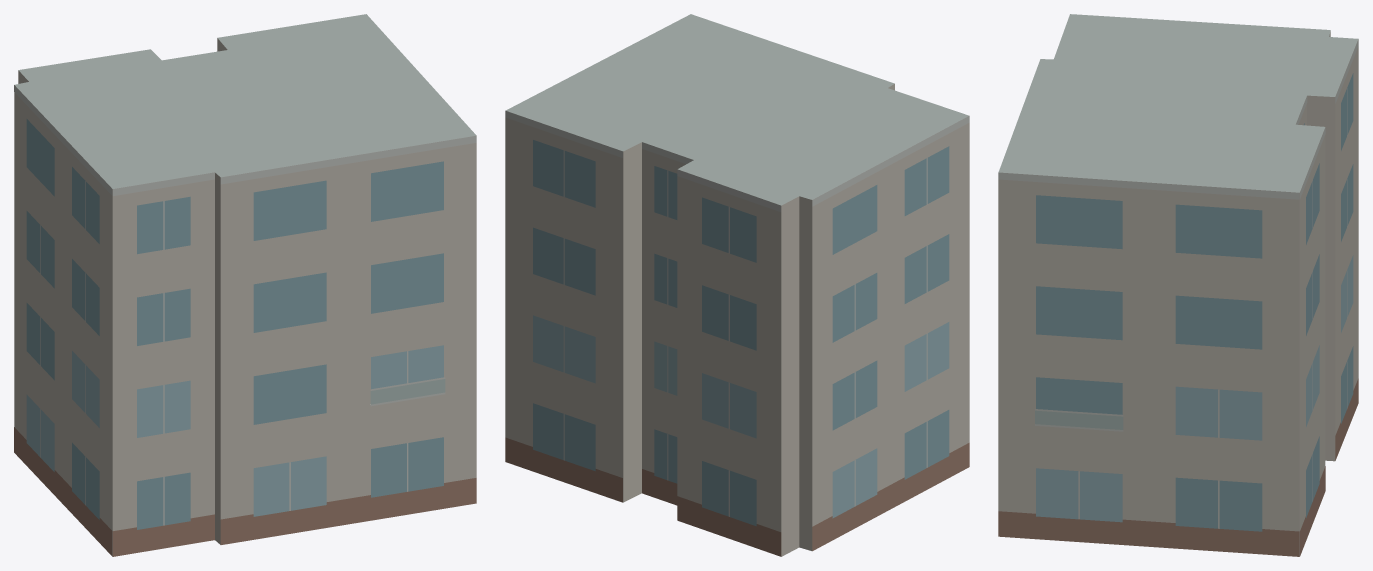
Rendered from survey-upis-32898278.glb.
The picture shows the model from 3 angles, left to right: view 1: azimuth 30°, elevation 25°; view 2: azimuth 150°, elevation 25°; view 3: azimuth 270°, elevation 25°; orthographic projection. The views are drawn at different scales.
Visible parts, largest first — view 1: survey-upis-32898278.tmp; view 2: survey-upis-32898278.tmp; view 3: survey-upis-32898278.tmp.
Boxes of the visible parts, x1=… form: survey-upis-32898278.tmp: x1=14, y1=14, x2=476, y2=556; survey-upis-32898278.tmp: x1=505, y1=14, x2=969, y2=556; survey-upis-32898278.tmp: x1=998, y1=14, x2=1358, y2=556.
Size of the model in its own units: 13.27 by 12.6 by 11.3.
